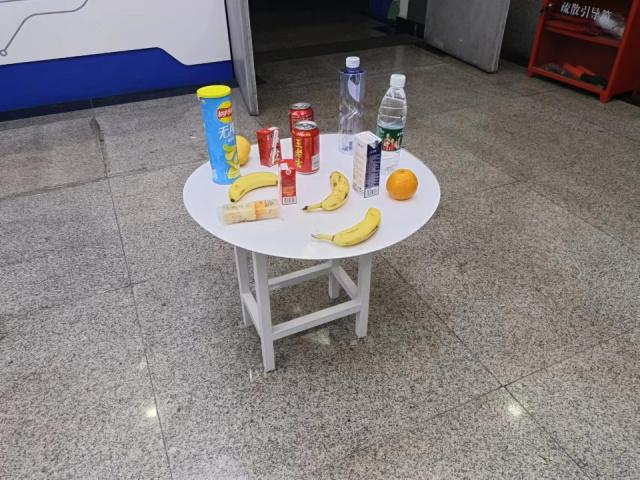Canned_drinks: (291, 120, 322, 175), (290, 103, 316, 150)
bottle: (375, 71, 408, 178), (338, 54, 368, 156)
cylinder: (196, 84, 242, 185)
drink_box: (352, 130, 382, 199), (256, 124, 282, 167), (277, 159, 299, 205)
